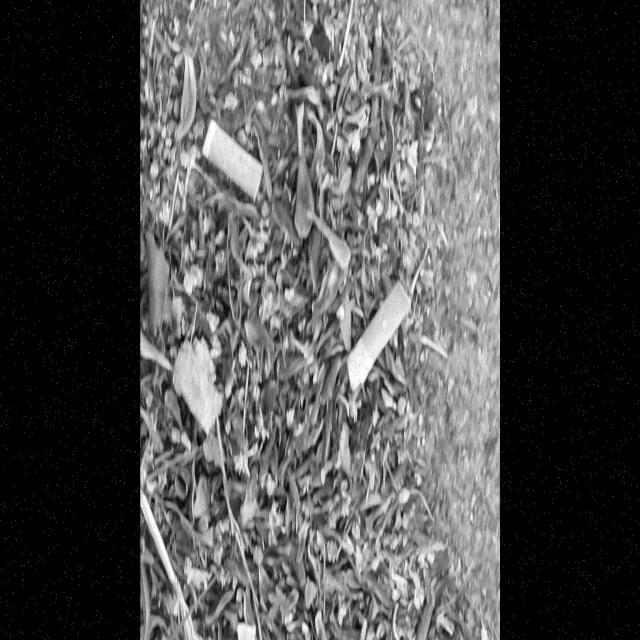other waste: (345, 278, 411, 394), (200, 118, 264, 204)
